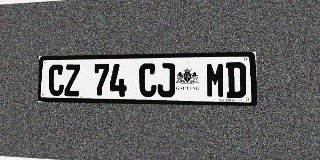4: (110, 64, 127, 97)
7: (93, 64, 109, 97)
C: (139, 63, 157, 97), (48, 64, 64, 96)
D: (226, 62, 246, 98)
J: (157, 63, 175, 97)
M: (206, 62, 225, 98)
Z: (64, 64, 80, 96)
